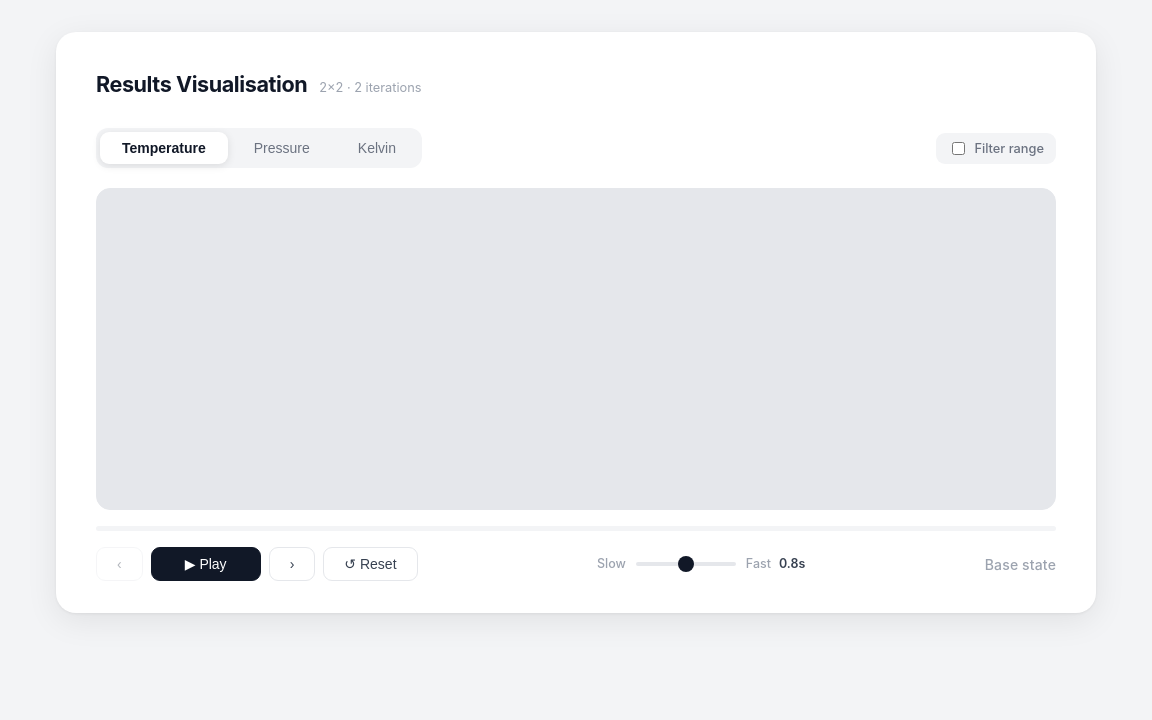
it: ResultsVisualization — loaded state › play button toggles to pause
The width and height of the screenshot is (1152, 720).
Step 1. Click the button "▶ Play" → click(206, 564), box [151,547,261,581]
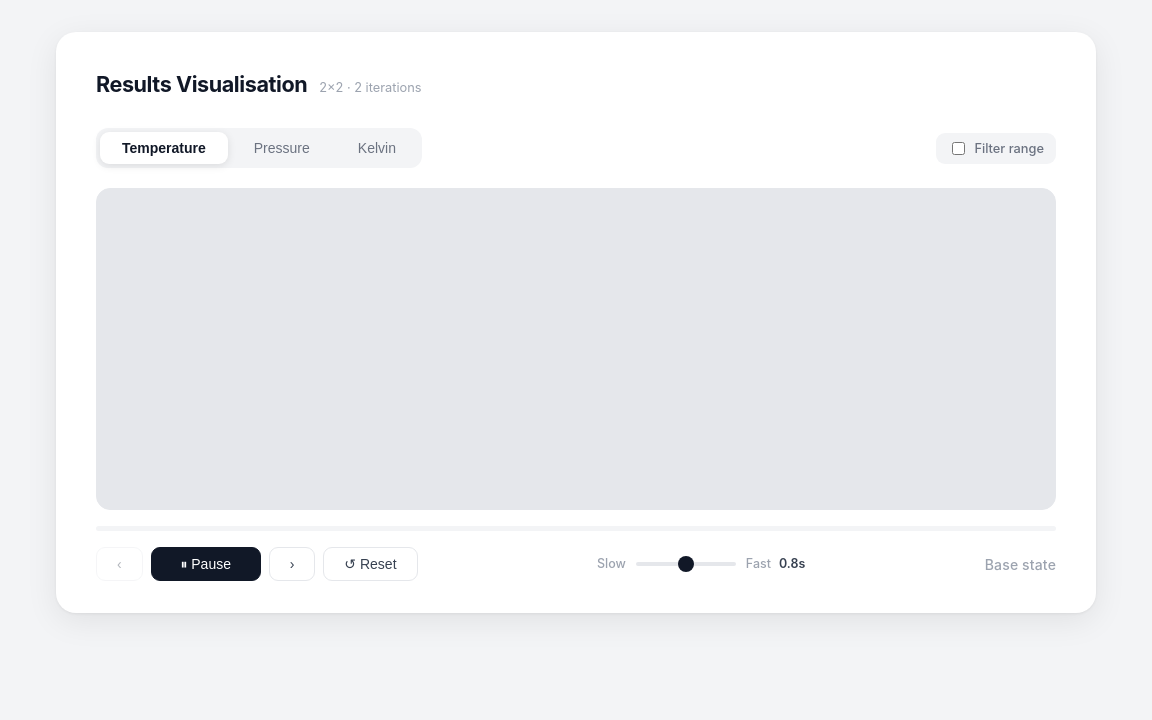
Check: the button "⏸ Pause" is shown, box [151,547,261,581]
